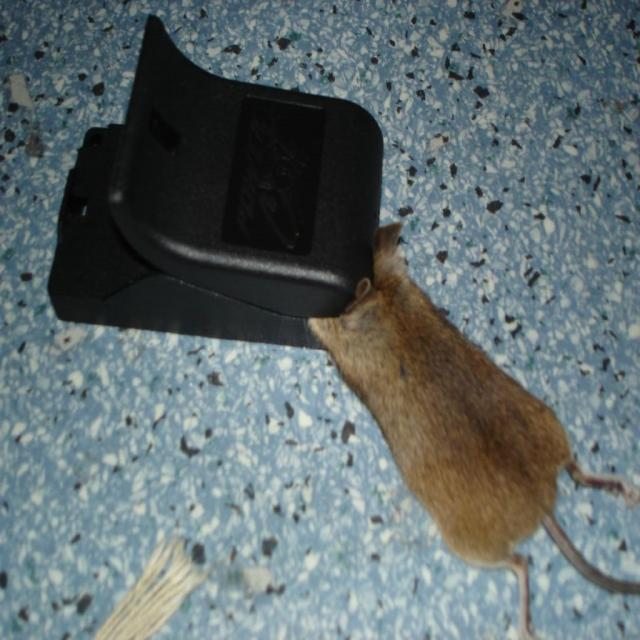rat: (305, 231, 640, 640)
